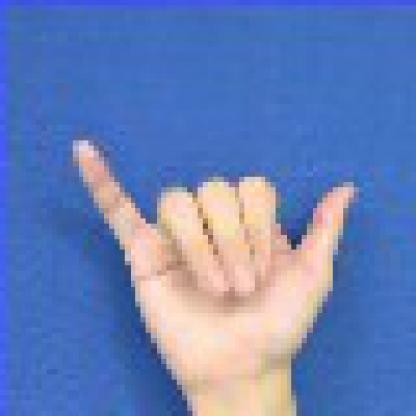six: (52, 119, 380, 410)
